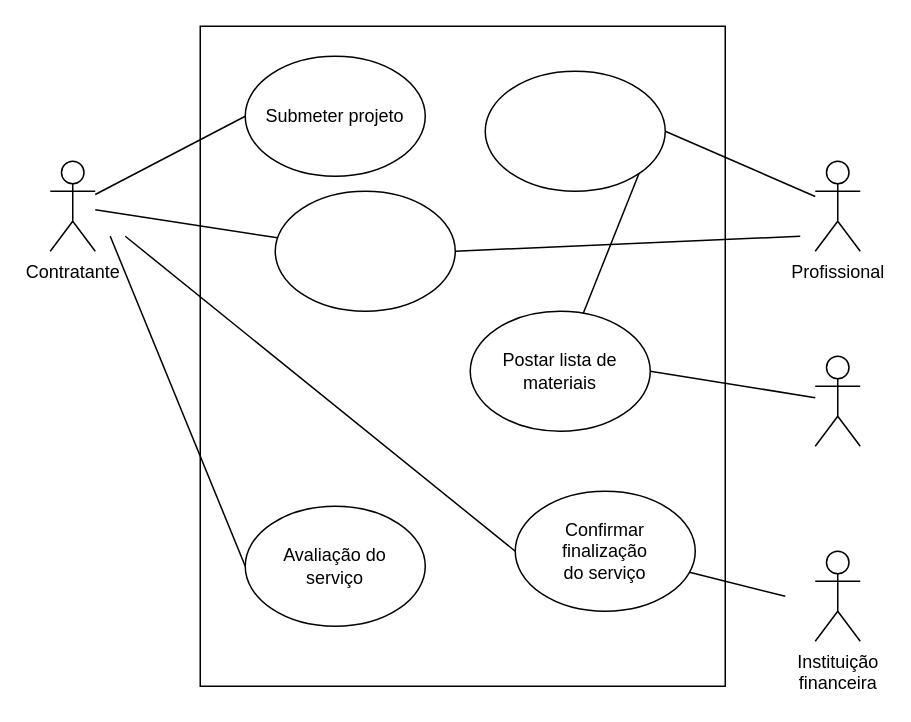
The diagram is 911 pixels wide and 722 high, and some of its shapes have lost their labels. Each missing label, with the centre of its shape:
"Aprovar orçamento" goes at [364,250].
"Postar laudo técnico" goes at [574,130].
"Varejista" goes at [837,400].
